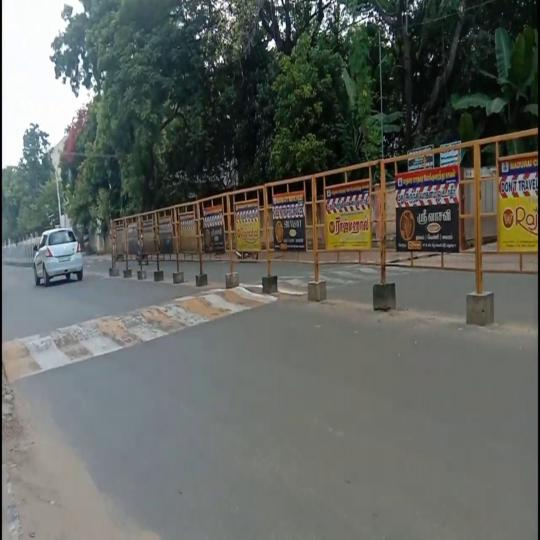Speed Bump: (2, 286, 277, 382), (326, 264, 373, 293), (277, 275, 307, 295)
